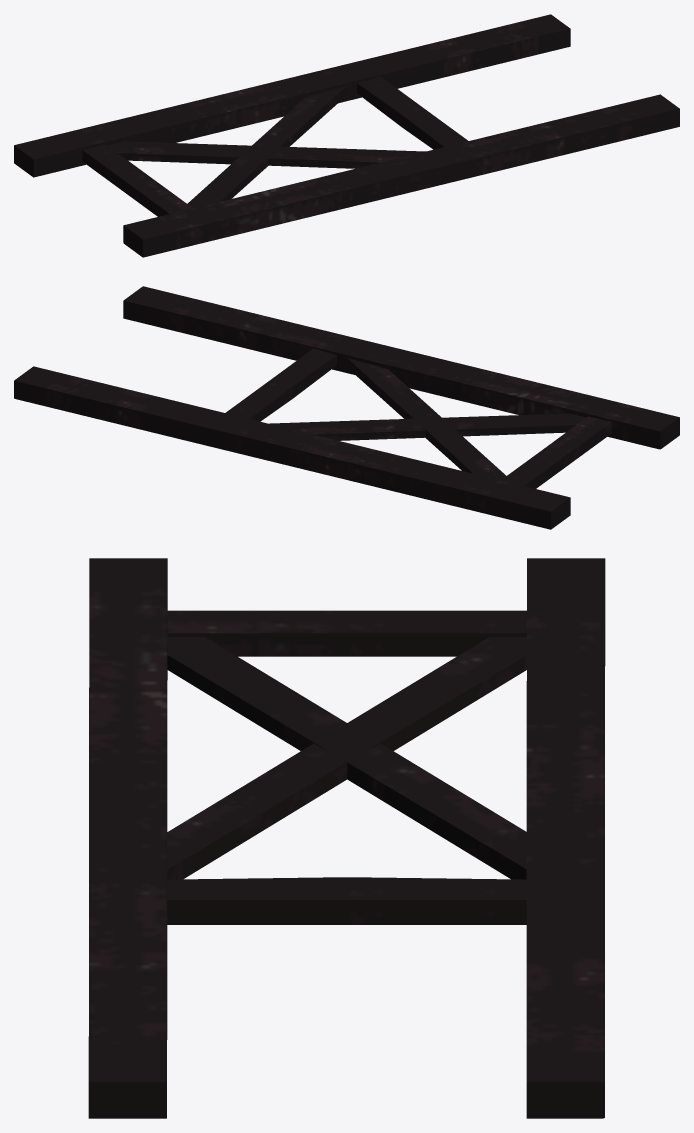
The model's file is SM_EC_Barn_Racking_End_0.fbx.
The picture shows the model from 3 angles, top to bottom: view 1: azimuth 30°, elevation 25°; view 2: azimuth 150°, elevation 25°; view 3: azimuth 270°, elevation 25°; orthographic projection. The views are drawn at different scales.
Visible parts, largest first — view 1: SM_EC_Barn_Racking_End_0; view 2: SM_EC_Barn_Racking_End_0; view 3: SM_EC_Barn_Racking_End_0.
Boxes of the visible parts, bbox=[...] form: SM_EC_Barn_Racking_End_0: bbox=[14, 14, 679, 257]; SM_EC_Barn_Racking_End_0: bbox=[14, 286, 679, 529]; SM_EC_Barn_Racking_End_0: bbox=[88, 558, 605, 1118].
Bounding box in the file's own units: 3.12 × 1.3 × 0.1.
